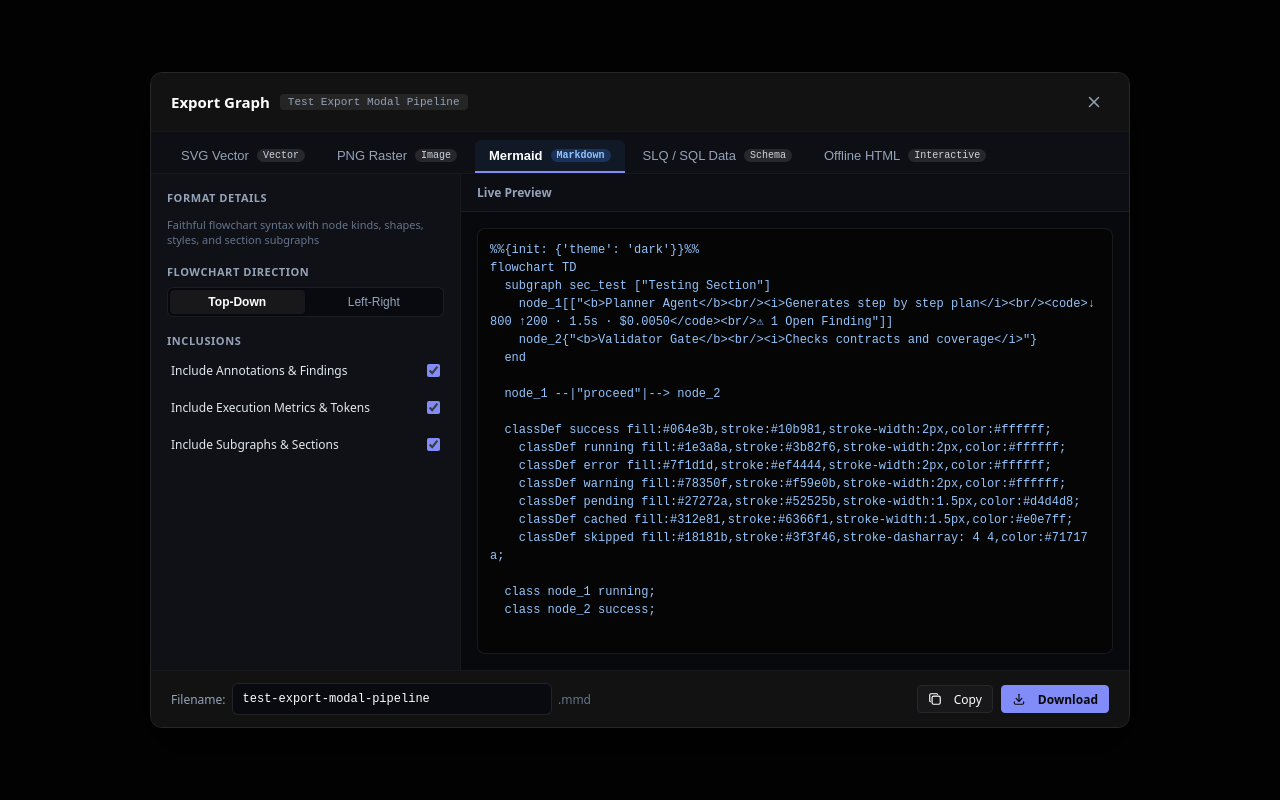
ExportModal Component › changes Mermaid layout direction (Top-Down to Left-Right)
The width and height of the screenshot is (1280, 800).
Expected: the text "flowchart TD" is shown, left=490, top=243, right=1095, bottom=617
Click the button "Left-Right" at (374, 302), box left=306, top=290, right=441, bottom=314
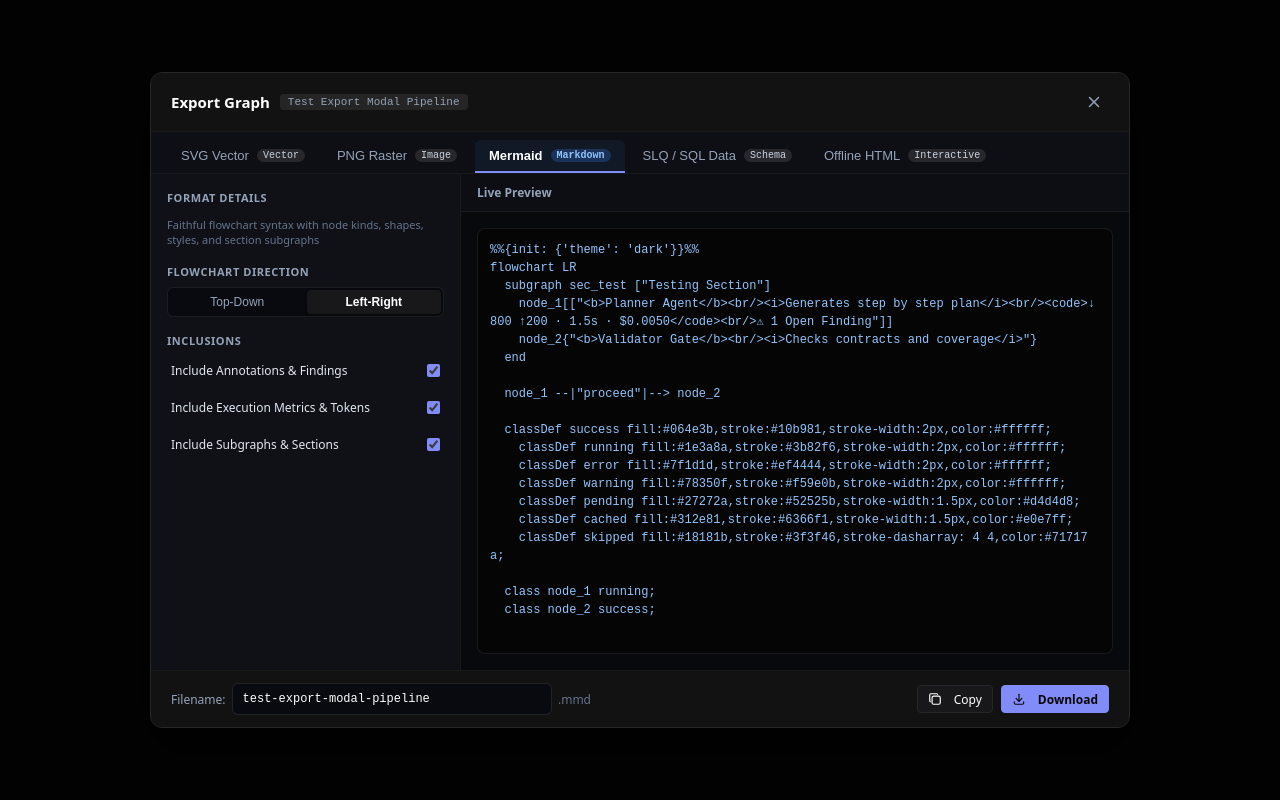
Result: the text "flowchart LR" is shown at left=490, top=243, right=1095, bottom=617
